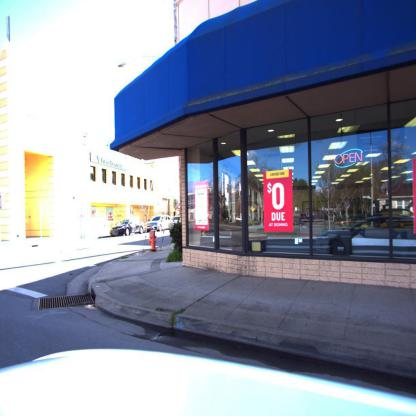car: (316, 215, 414, 257), (110, 218, 146, 236), (147, 214, 175, 233)
fire hydrant: (149, 228, 158, 251)
